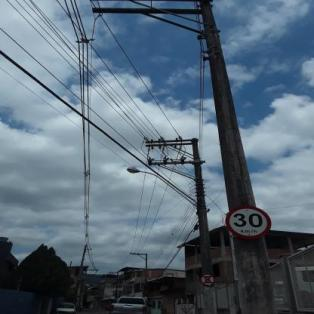Poste: (185, 0, 283, 312), (180, 136, 222, 312)
